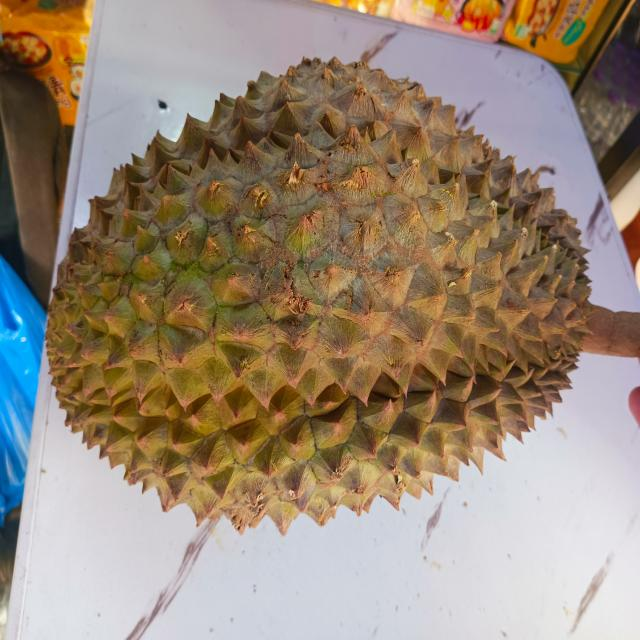mature: (47, 58, 589, 534)
